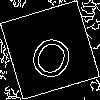O: (25, 25, 82, 84)
